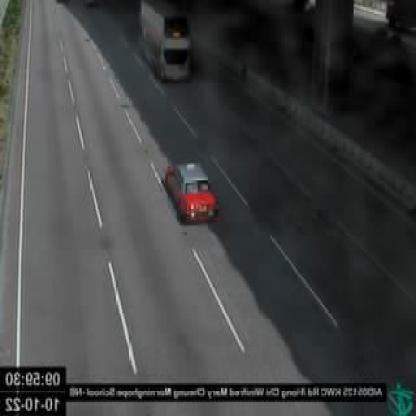Bus: (140, 0, 190, 82)
Car: (162, 159, 218, 223)
